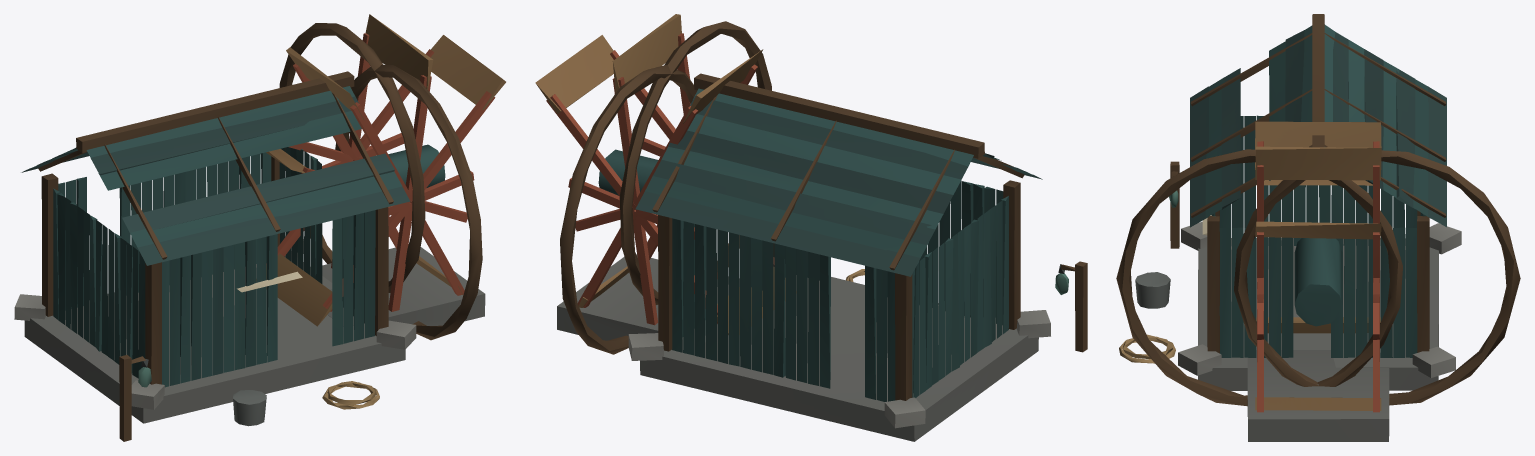
Rendered from sluice_shed_b_lod2.glb.
3 renders of one model, left to right at view 1: azimuth 30°, elevation 25°; view 2: azimuth 150°, elevation 25°; view 3: azimuth 270°, elevation 25°, orthographic. The views are drawn at different scales.
Visible parts, largest first — view 1: Surface.001; view 2: Surface.001; view 3: Surface.001.
Boxes of the visible parts, bbox=[...] form: Surface.001: bbox=[14, 14, 505, 441]; Surface.001: bbox=[535, 14, 1087, 441]; Surface.001: bbox=[1116, 14, 1520, 441].
Size of the model in its own units: 9.01 by 5.63 by 7.33.
